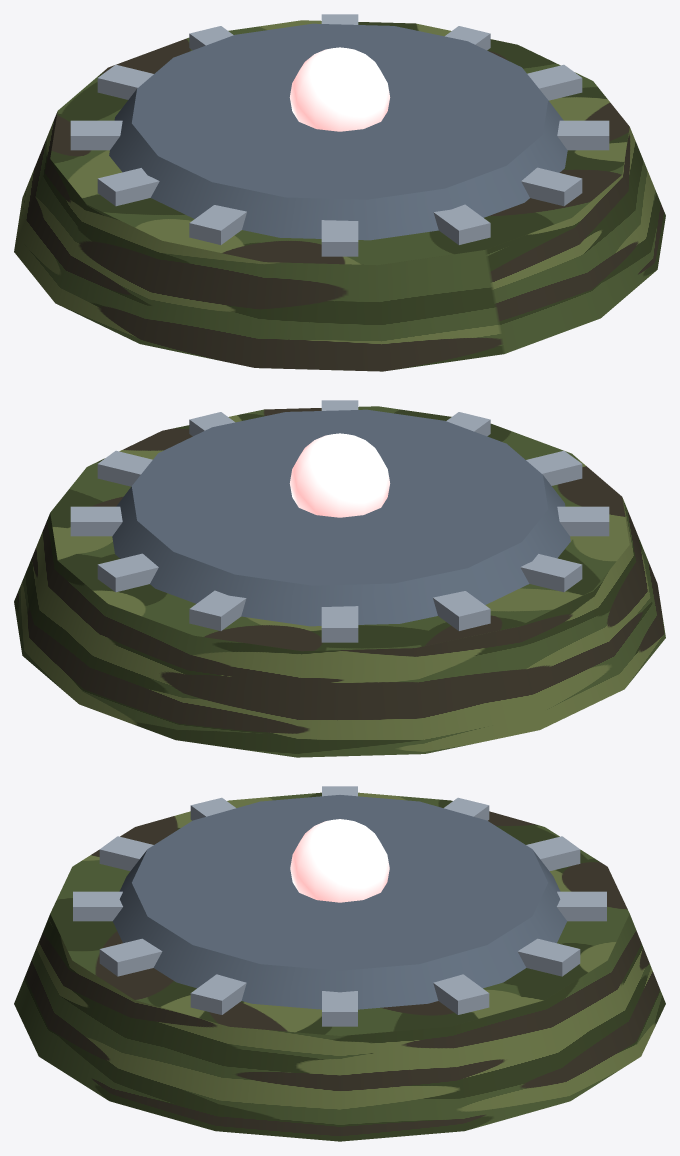
The model's file is mine_land_anti_tank.glb.
The picture shows the model from 3 angles, top to bottom: view 1: azimuth 30°, elevation 25°; view 2: azimuth 150°, elevation 25°; view 3: azimuth 270°, elevation 25°; orthographic projection.
Visible parts, largest first — view 1: mine_land_anti_tank; view 2: mine_land_anti_tank; view 3: mine_land_anti_tank.
Part boxes in pixels (left/top/right/bottom): mine_land_anti_tank: left=14, top=14, right=665, bottom=371; mine_land_anti_tank: left=14, top=400, right=665, bottom=757; mine_land_anti_tank: left=14, top=786, right=665, bottom=1141.
Size of the model in its own units: 1.44 by 0.44 by 1.44.
4 materials, 1 textured.
